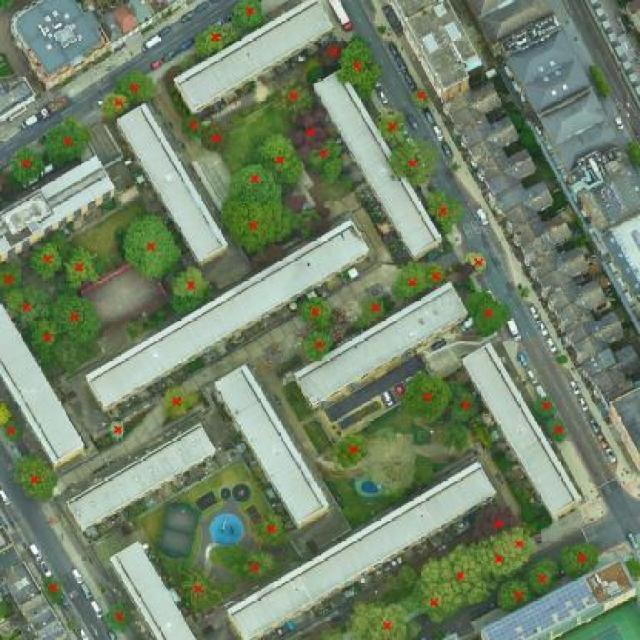tree: (213, 193, 307, 262), (414, 539, 497, 615), (356, 421, 424, 502), (116, 206, 184, 286), (377, 132, 446, 195), (398, 363, 460, 432), (246, 127, 309, 191), (48, 291, 110, 352), (334, 35, 388, 103), (341, 597, 422, 640), (5, 450, 64, 508), (457, 288, 517, 343), (0, 278, 55, 336), (41, 118, 96, 173), (107, 67, 164, 118), (406, 580, 466, 628), (488, 569, 543, 620), (225, 160, 290, 203), (176, 565, 227, 619), (466, 499, 525, 544), (55, 242, 107, 293), (151, 378, 207, 425), (421, 188, 472, 239), (189, 19, 246, 64), (470, 531, 518, 584), (382, 259, 433, 308), (3, 140, 51, 191), (555, 537, 609, 581), (292, 292, 340, 340), (307, 137, 350, 189), (29, 308, 65, 370), (330, 425, 376, 473), (366, 108, 417, 151), (524, 554, 571, 600), (506, 520, 546, 574), (269, 79, 322, 119), (24, 238, 71, 282), (172, 265, 214, 310), (232, 550, 281, 588), (97, 593, 143, 633), (353, 288, 389, 339), (94, 88, 135, 129), (315, 31, 353, 75), (228, 0, 271, 37), (446, 382, 482, 426), (288, 114, 328, 152), (248, 511, 290, 546), (538, 415, 580, 450), (298, 332, 342, 365), (198, 119, 234, 159), (38, 569, 70, 613), (176, 106, 212, 145), (523, 385, 562, 421), (162, 292, 207, 319), (0, 260, 26, 306), (438, 425, 474, 457), (425, 253, 449, 299), (407, 83, 439, 115), (104, 415, 133, 449), (462, 250, 493, 278), (0, 417, 26, 446), (0, 596, 17, 627), (0, 395, 15, 427)
